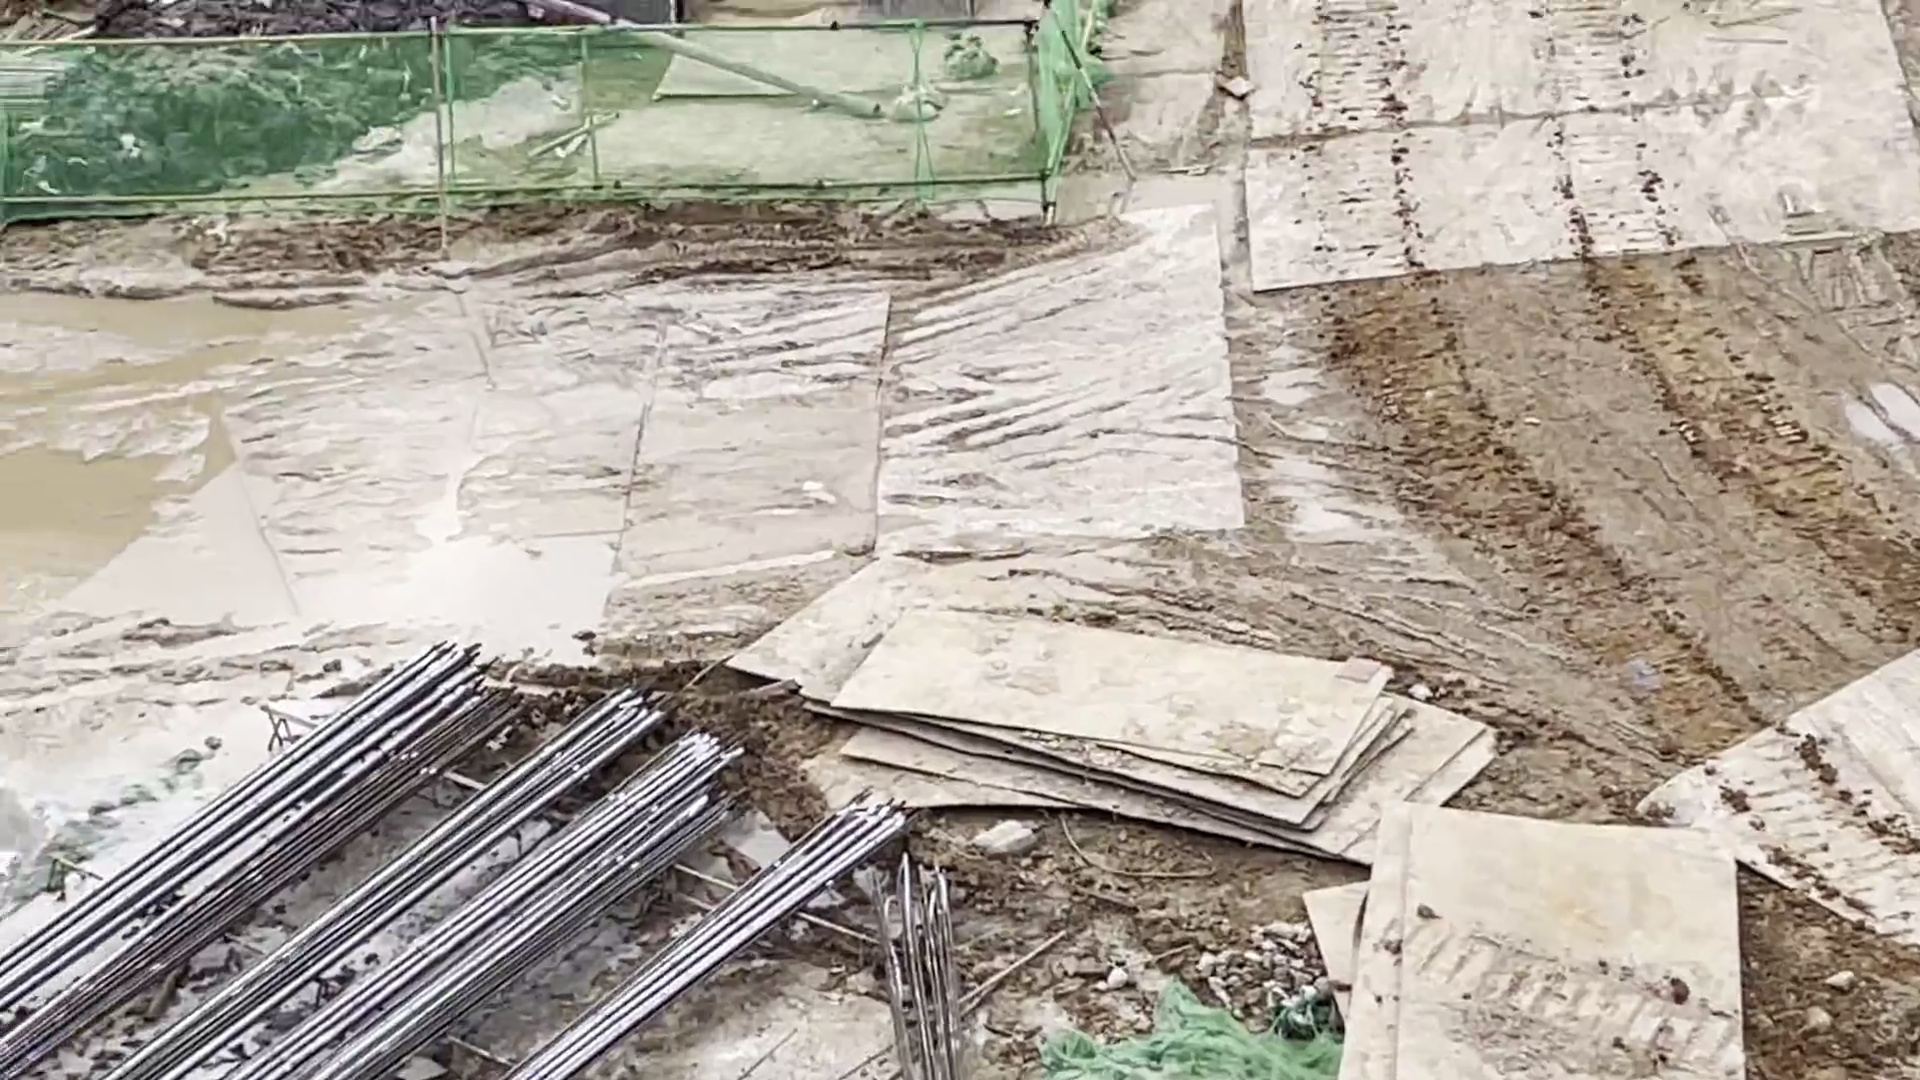rebar: (5, 640, 903, 1080), (877, 855, 975, 1076)
